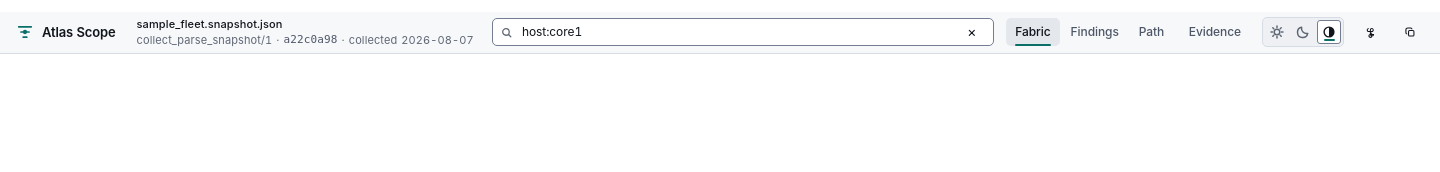
Scenario: the query bar is reachable and escapable from the keyboard › an external write replaces the draft, and Clear writes through immediately
The width and height of the screenshot is (1440, 172).
Expected: the field with class "hdr-query__input" holds "host:core1", [520,19,950,45]
Click the button named "Clear the query". click: click(972, 32)
box: [958,20,985,44]
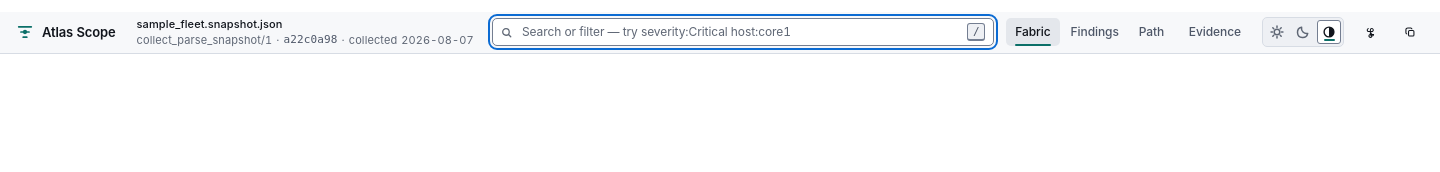
Expected: the field with class "hdr-query__input" is empty, [520,19,959,45]
